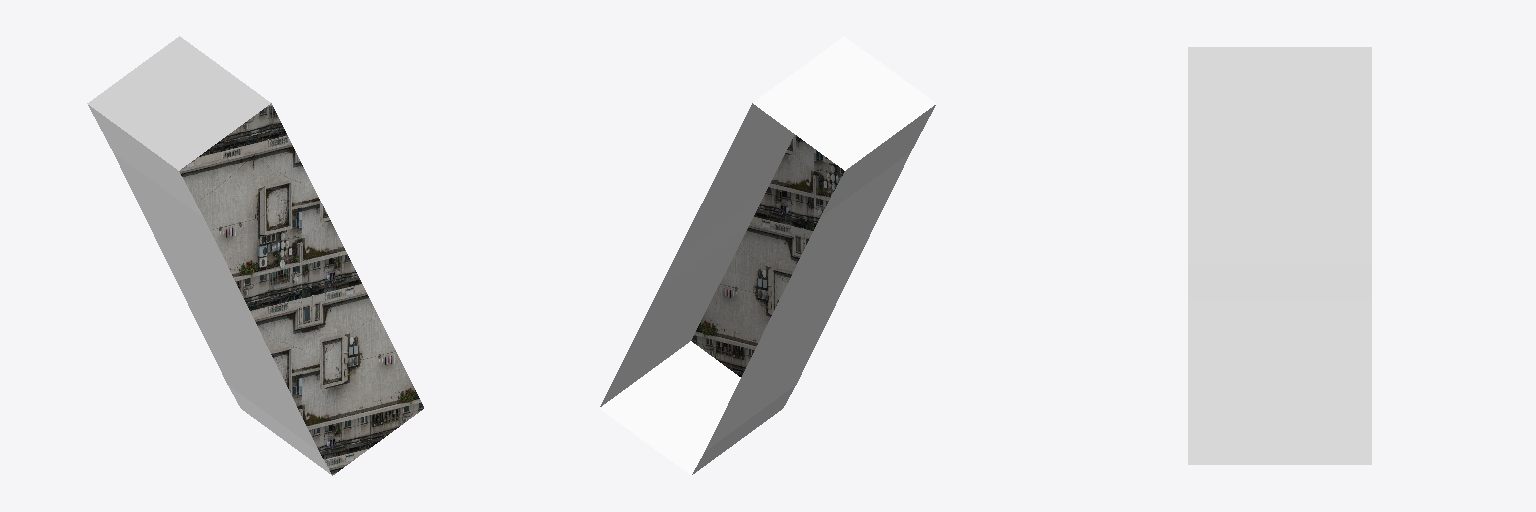
3 views of the same model, side by side, from view 1: azimuth 30°, elevation 25°; view 2: azimuth 150°, elevation 25°; view 3: azimuth 270°, elevation 25° (orthographic).
Visible parts, largest first — view 1: Building; view 2: Building; view 3: Building.
Part boxes in pixels (x1,y1,x2,y2): Building: (87, 36, 423, 475); Building: (600, 36, 936, 475); Building: (1188, 47, 1371, 464).
Size of the model in its own units: 13.9 by 20.95 by 9.
2 materials, 1 textured.